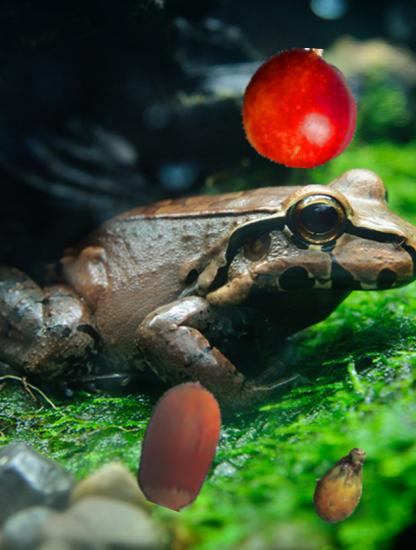Cactus: (303, 445, 384, 526)
Hazelnut: (114, 378, 244, 508)
Nectarine: (239, 48, 359, 168)
